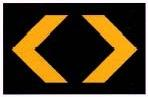Baiai direccional para balizamento de pontos de divergencia: (3, 1, 148, 93)
